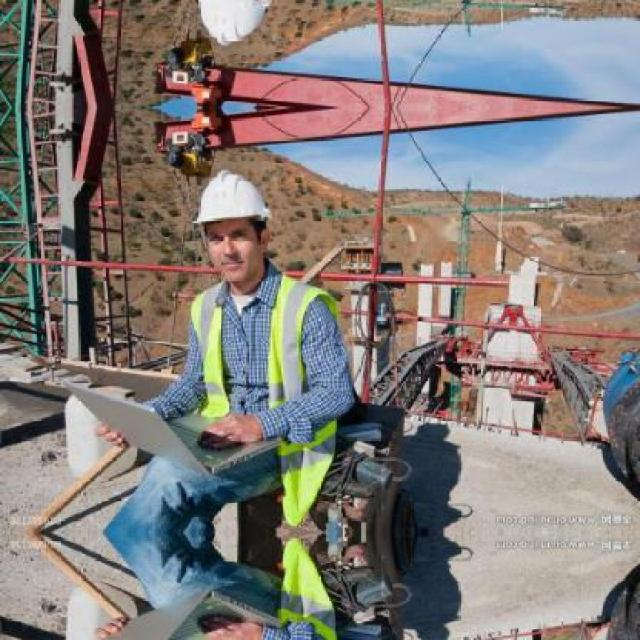Reflective-Jacket: (182, 268, 343, 526)
Safety-Helmet: (186, 164, 280, 233)
